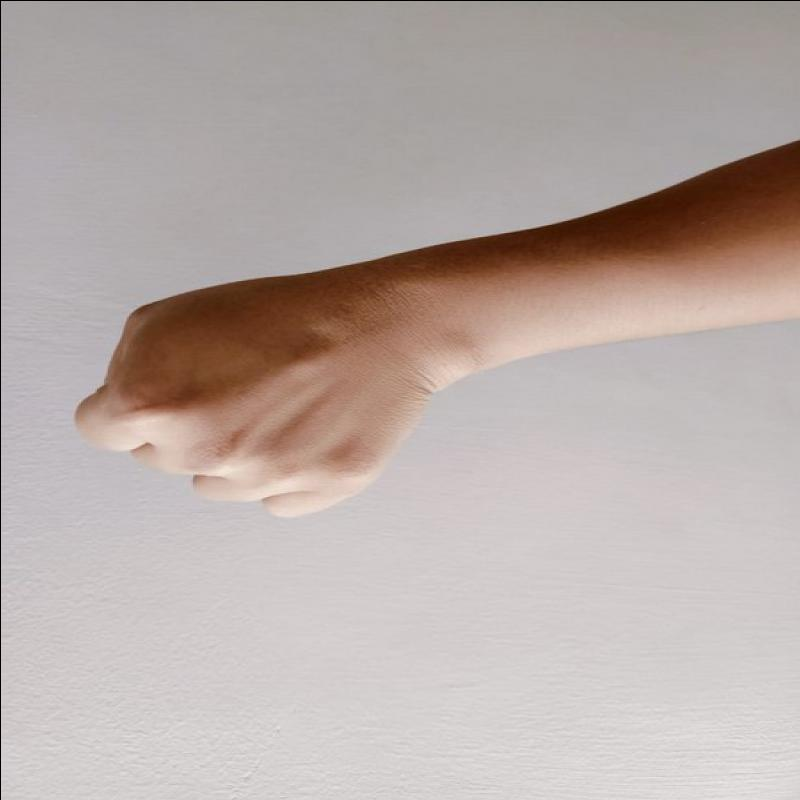Mushti: (63, 237, 453, 553)
